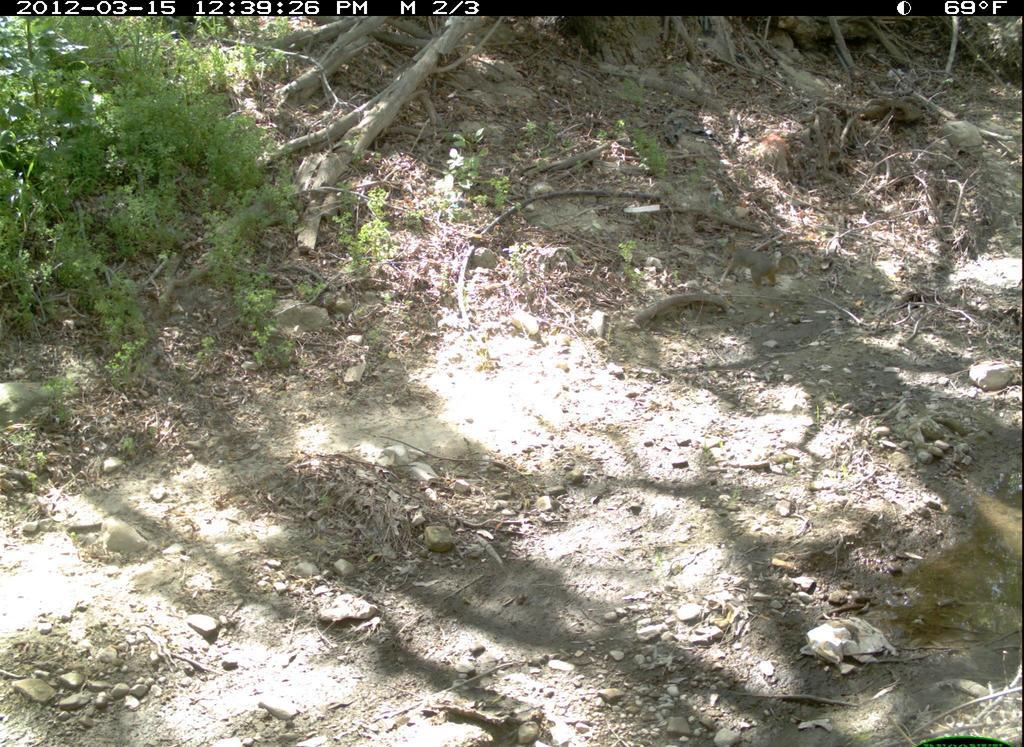squirrel: (724, 244, 802, 294)
